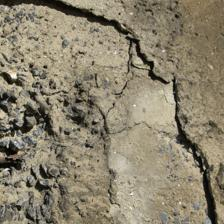Crack: (69, 0, 152, 124), (65, 54, 108, 166)
